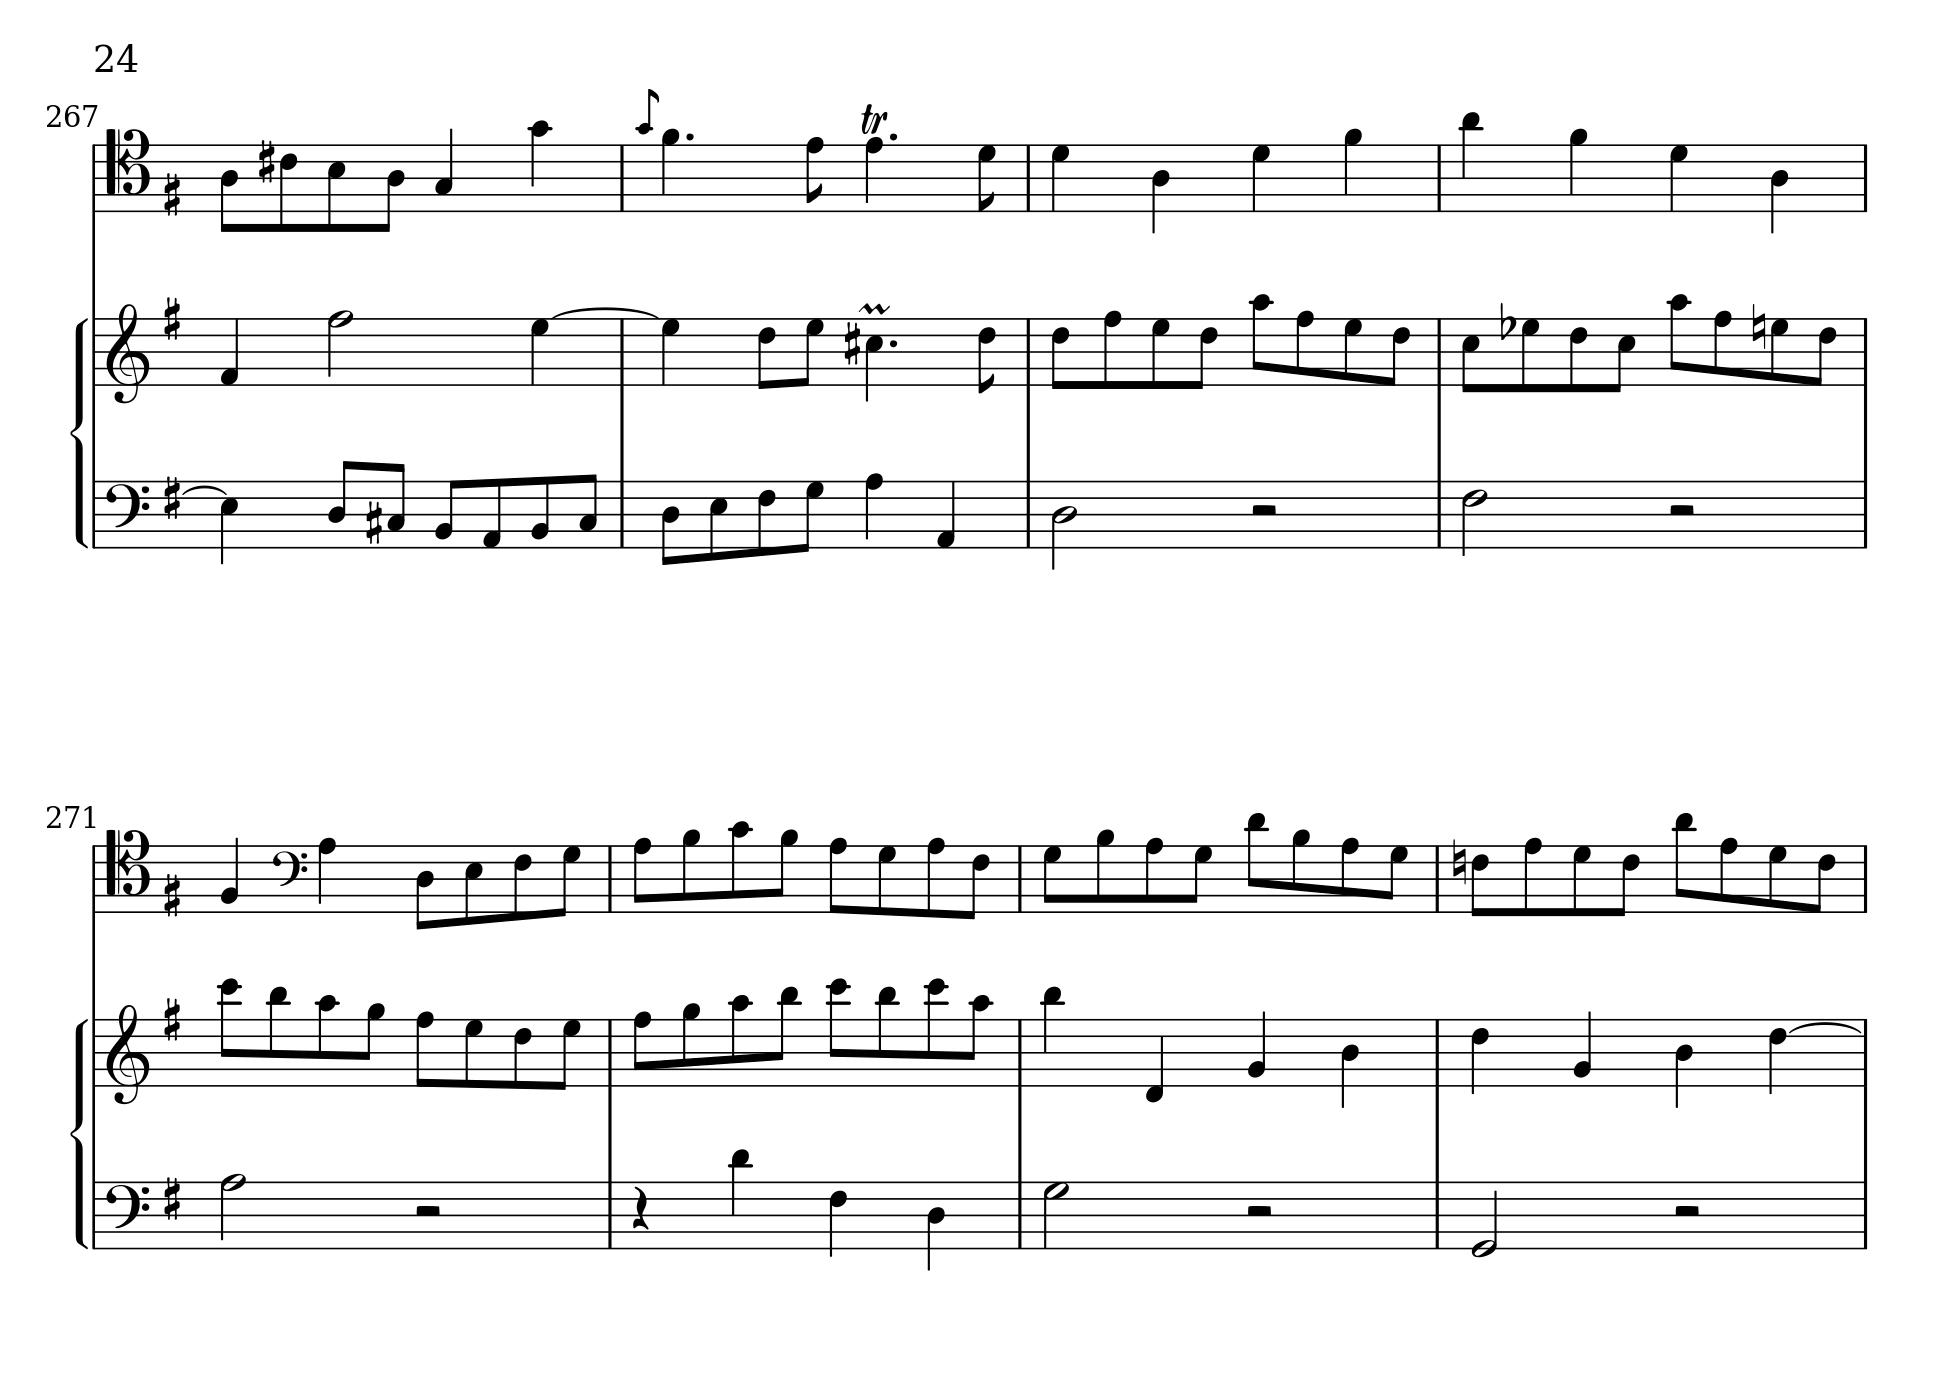1: (82, 802, 97, 829)
2: (91, 42, 114, 72), (43, 103, 63, 129), (43, 804, 63, 829)
2_0: (1470, 1177, 1500, 1258)
2_4: (1050, 478, 1077, 571)
2_6: (1461, 478, 1488, 556)
2_7: (1041, 1179, 1069, 1249)
2_8: (325, 307, 352, 385), (219, 1171, 246, 1249)
4: (117, 40, 138, 72)
4_-1: (1143, 1015, 1167, 1102)
4_1: (934, 478, 958, 550), (217, 316, 241, 387)
4_10: (526, 118, 553, 214)
4_11: (1458, 109, 1483, 214), (1039, 984, 1065, 1087), (727, 1146, 751, 1251)
4_2: (1572, 1008, 1596, 1087), (219, 834, 241, 913), (1246, 1008, 1269, 1087)
4_3: (433, 127, 456, 213)
4_4: (1338, 1015, 1362, 1110), (1672, 1017, 1695, 1110), (1150, 142, 1173, 234), (1768, 142, 1791, 234), (925, 1177, 946, 1272)
4_5: (864, 315, 885, 403), (219, 478, 240, 565)
4_6: (826, 1177, 849, 1260), (1470, 1015, 1492, 1096), (1767, 1015, 1788, 1096)
4_7: (658, 316, 681, 387), (1251, 142, 1273, 211), (1668, 142, 1690, 211), (529, 316, 552, 385), (1050, 142, 1071, 213)
4_8: (862, 471, 885, 550), (862, 136, 885, 214), (316, 835, 337, 913)
4_9: (658, 126, 682, 214), (1344, 126, 1365, 214), (1569, 126, 1590, 213)
6: (63, 102, 81, 129)
7: (63, 802, 81, 829), (81, 102, 97, 129)
8_1: (480, 475, 502, 550)
8_10: (961, 993, 993, 1087), (315, 991, 339, 1087), (727, 991, 751, 1087), (727, 819, 751, 913), (1251, 292, 1273, 387), (1668, 292, 1690, 385)
8_11: (771, 984, 801, 1087), (874, 982, 900, 1087), (1672, 810, 1698, 913), (1245, 808, 1269, 915), (265, 984, 289, 1087)
8_12: (924, 975, 949, 1089), (826, 975, 852, 1087), (217, 976, 243, 1087)
8_2: (433, 478, 460, 550), (529, 474, 550, 550)
8_3: (385, 460, 406, 550), (577, 471, 598, 550)
8_4: (378, 142, 406, 234), (327, 459, 355, 550), (658, 478, 681, 565), (217, 142, 238, 234), (414, 843, 435, 931)
8_5: (1608, 315, 1638, 394), (706, 477, 729, 562), (325, 142, 346, 232), (463, 841, 484, 927), (1461, 316, 1482, 394)
8_6: (963, 841, 993, 919), (1612, 841, 1642, 918), (1191, 315, 1219, 391), (1809, 843, 1839, 913), (1384, 315, 1413, 387), (277, 141, 298, 234), (1812, 315, 1839, 387), (754, 477, 777, 558), (1567, 315, 1590, 394), (976, 316, 999, 394), (1050, 315, 1072, 391), (1470, 843, 1492, 919), (511, 841, 532, 922), (511, 1015, 534, 1090), (756, 315, 777, 391)
8_7: (552, 1015, 582, 1090), (552, 843, 580, 916), (796, 478, 823, 553), (796, 316, 825, 387), (1185, 843, 1213, 913), (1381, 844, 1410, 913), (1149, 316, 1173, 390), (1519, 316, 1542, 394), (1041, 843, 1065, 913), (876, 843, 898, 916), (1570, 843, 1593, 916), (462, 1015, 484, 1089), (976, 142, 999, 213), (1342, 316, 1365, 387), (1767, 843, 1789, 913), (1770, 316, 1791, 387)
8_8: (1101, 307, 1125, 390), (1521, 835, 1545, 918), (826, 835, 850, 915), (924, 835, 946, 919), (1143, 835, 1167, 913), (804, 135, 826, 214), (1294, 307, 1317, 387), (414, 1009, 436, 1089), (1339, 835, 1362, 913), (1717, 835, 1740, 913), (631, 1009, 654, 1087), (1713, 309, 1734, 388), (631, 835, 652, 913)
8_9: (769, 826, 799, 913), (355, 1000, 385, 1087), (679, 826, 702, 913), (1095, 826, 1117, 913), (679, 1000, 702, 1087), (1291, 828, 1312, 913)
Appoggiature: (634, 90, 661, 211)
Brace: (67, 1015, 90, 1249), (69, 315, 88, 549)
Fclef: (103, 478, 150, 550), (103, 1177, 150, 1249), (270, 843, 307, 913)
Flat: (1498, 300, 1515, 340)
Gclef: (105, 301, 151, 405), (105, 1000, 150, 1105)
Natural: (1750, 301, 1767, 352), (1450, 835, 1467, 886)
Rests2: (1671, 1201, 1704, 1219), (412, 1201, 444, 1219), (1245, 1203, 1276, 1219), (1248, 502, 1279, 517), (1666, 502, 1698, 517)
Rests4: (628, 1183, 652, 1233)
Sharp: (160, 472, 183, 523), (162, 171, 184, 220), (160, 1174, 183, 1224), (160, 294, 181, 342), (841, 319, 862, 367), (162, 871, 183, 919), (256, 136, 276, 184), (162, 994, 181, 1042), (364, 499, 382, 546)
ShortTrill: (858, 298, 892, 315)
Single_barline: (613, 316, 634, 385), (612, 480, 631, 547), (1857, 844, 1875, 913), (1020, 318, 1038, 385), (1020, 480, 1038, 547), (601, 844, 619, 912), (1011, 1018, 1029, 1086), (1857, 1018, 1875, 1086), (601, 1018, 619, 1086), (1855, 1180, 1873, 1248), (613, 144, 631, 210), (85, 844, 103, 910), (1011, 844, 1029, 910), (1011, 1180, 1029, 1246), (1431, 478, 1447, 547), (1431, 145, 1449, 208), (87, 318, 103, 385), (87, 1018, 103, 1086), (1429, 1180, 1446, 1248), (1021, 144, 1038, 210), (1857, 144, 1873, 210), (1431, 319, 1447, 385), (601, 1180, 618, 1246), (85, 144, 102, 208), (1429, 846, 1446, 910), (1429, 1020, 1446, 1084), (88, 1180, 103, 1249), (1857, 481, 1872, 547), (1858, 316, 1872, 385), (88, 481, 102, 547)
Slur: (547, 304, 663, 318), (1788, 1020, 1863, 1033), (181, 484, 229, 496)
Tensor_Cclef: (103, 826, 151, 913), (103, 127, 151, 211)
Trill: (856, 100, 891, 136)
dot: (886, 334, 900, 349), (682, 129, 696, 142), (886, 130, 900, 142)
